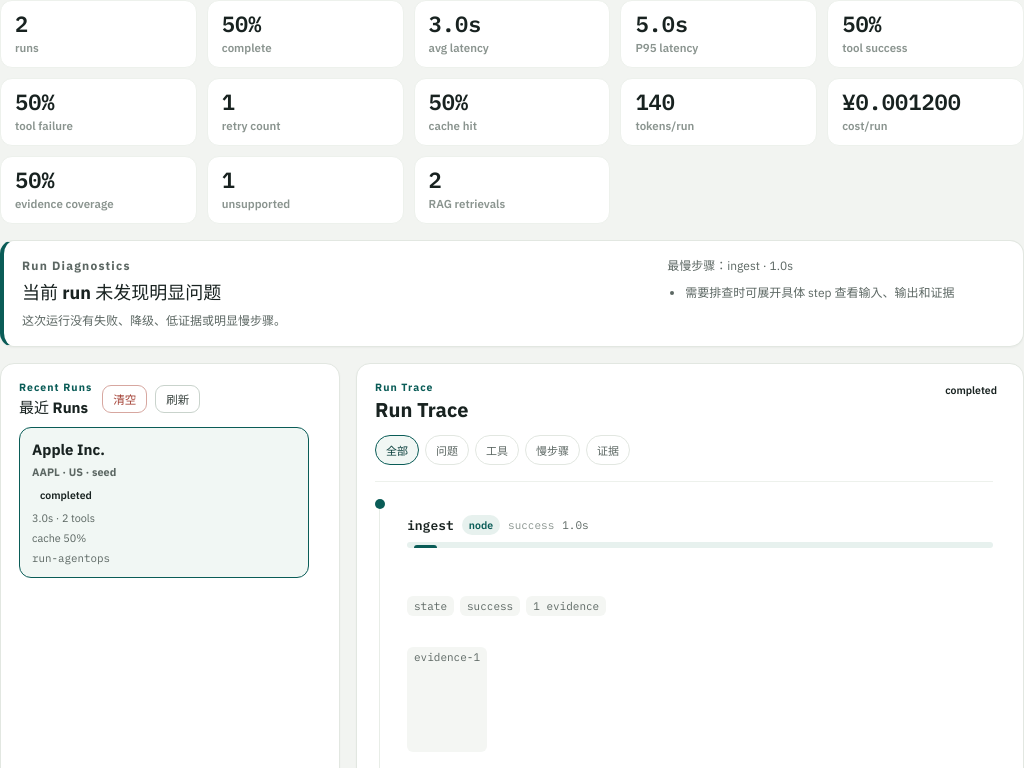
it: AgentOpsDashboard › shows a styled retry action when clearing runs fails
Check: the text "run-agentops" is shown, box [32,551,110,565]
Click the button with aria-label "清空 Run 记录" at (125, 399), box [102,385,147,413]
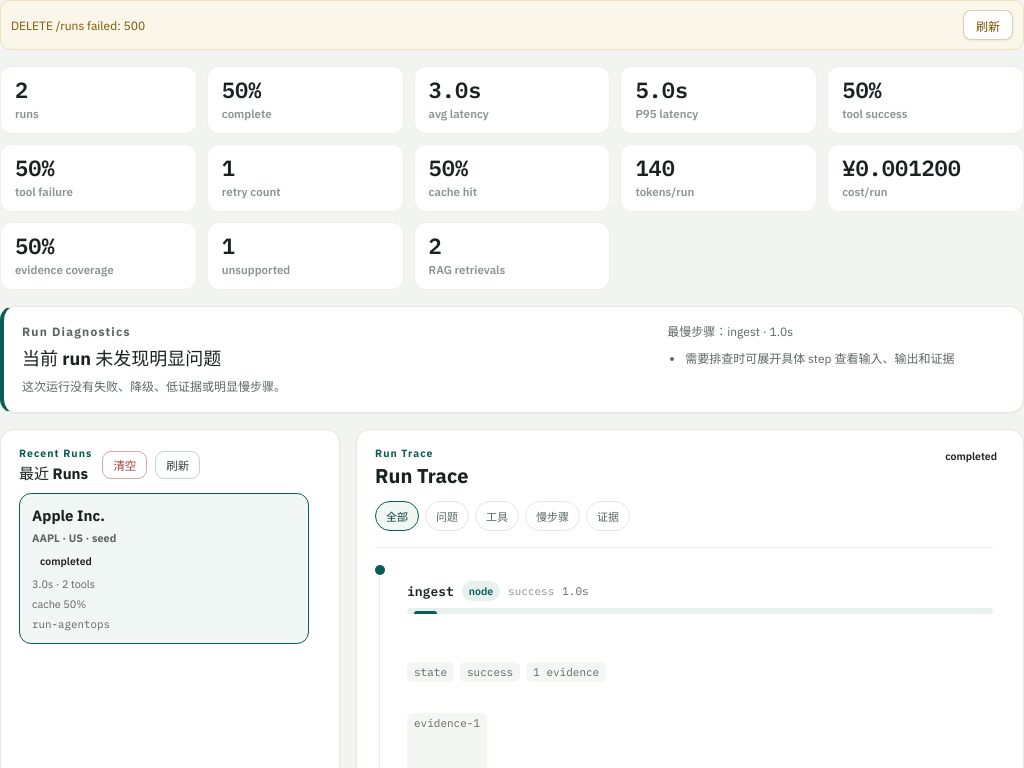
Check: the text "DELETE /runs failed: 500" is shown, box [11,18,145,32]
